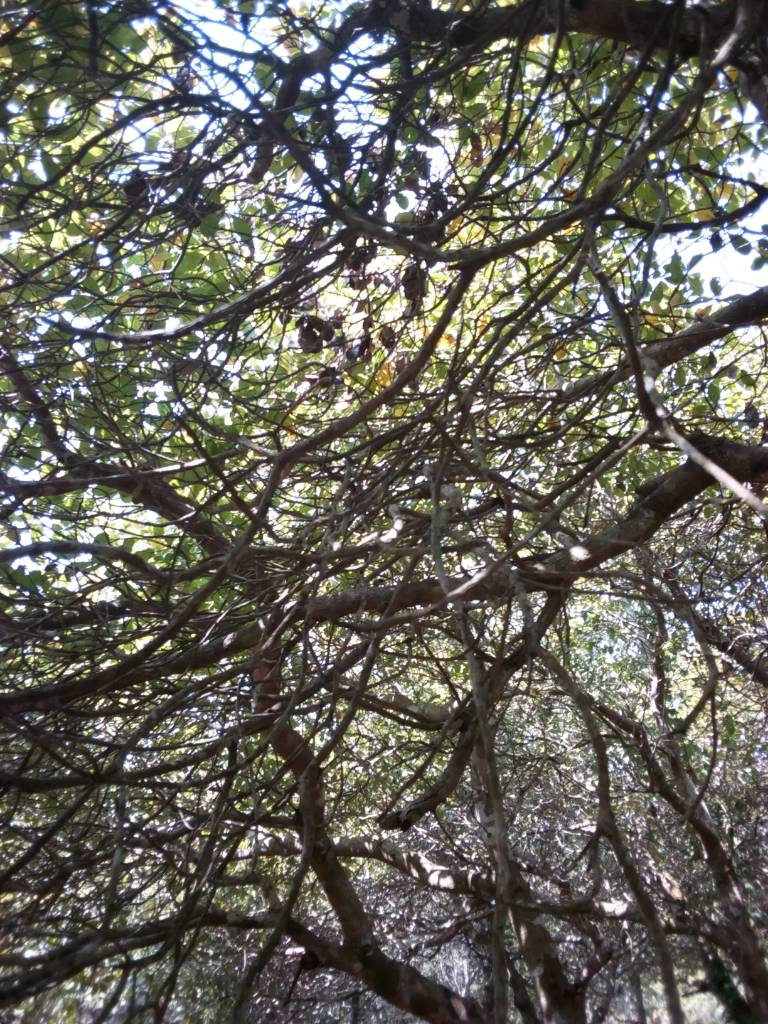Dessèchement des bourgeons: (296, 260, 425, 388)
